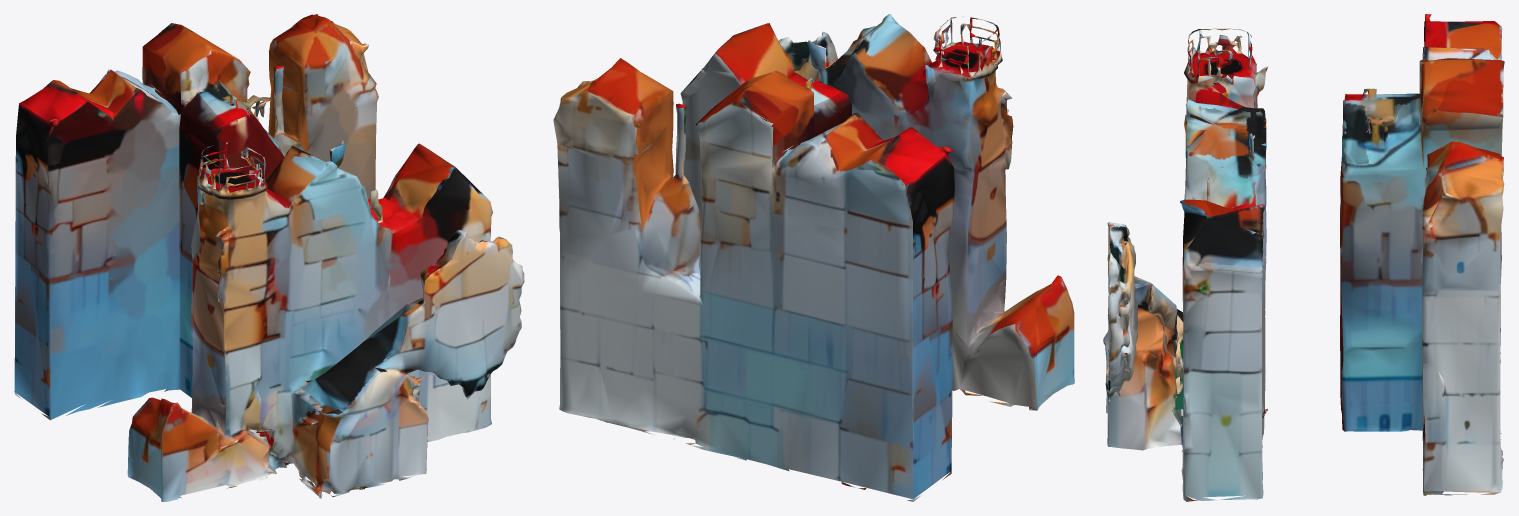
The model's file is transmutation_forge.glb.
The picture shows the model from 3 angles, left to right: view 1: azimuth 30°, elevation 25°; view 2: azimuth 150°, elevation 25°; view 3: azimuth 270°, elevation 25°; orthographic projection. The views are drawn at different scales.
Visible parts, largest first — view 1: LP_baked; view 2: LP_baked; view 3: LP_baked.
Boxes of the visible parts, box(x1,y1,x2,y2) form: LP_baked: box(14, 14, 524, 501); LP_baked: box(553, 14, 1074, 501); LP_baked: box(1103, 14, 1504, 501).
Bounding box in the file's own units: 1.96 × 1.9 × 1.94.
Materials: 1 (1 with a texture image).
